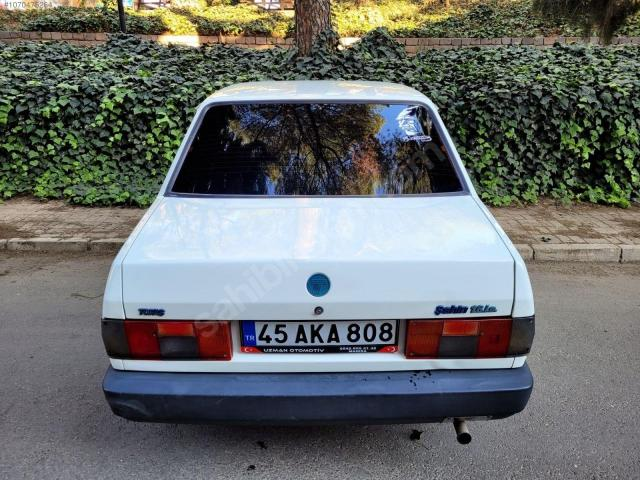plaka: (243, 320, 398, 352)
